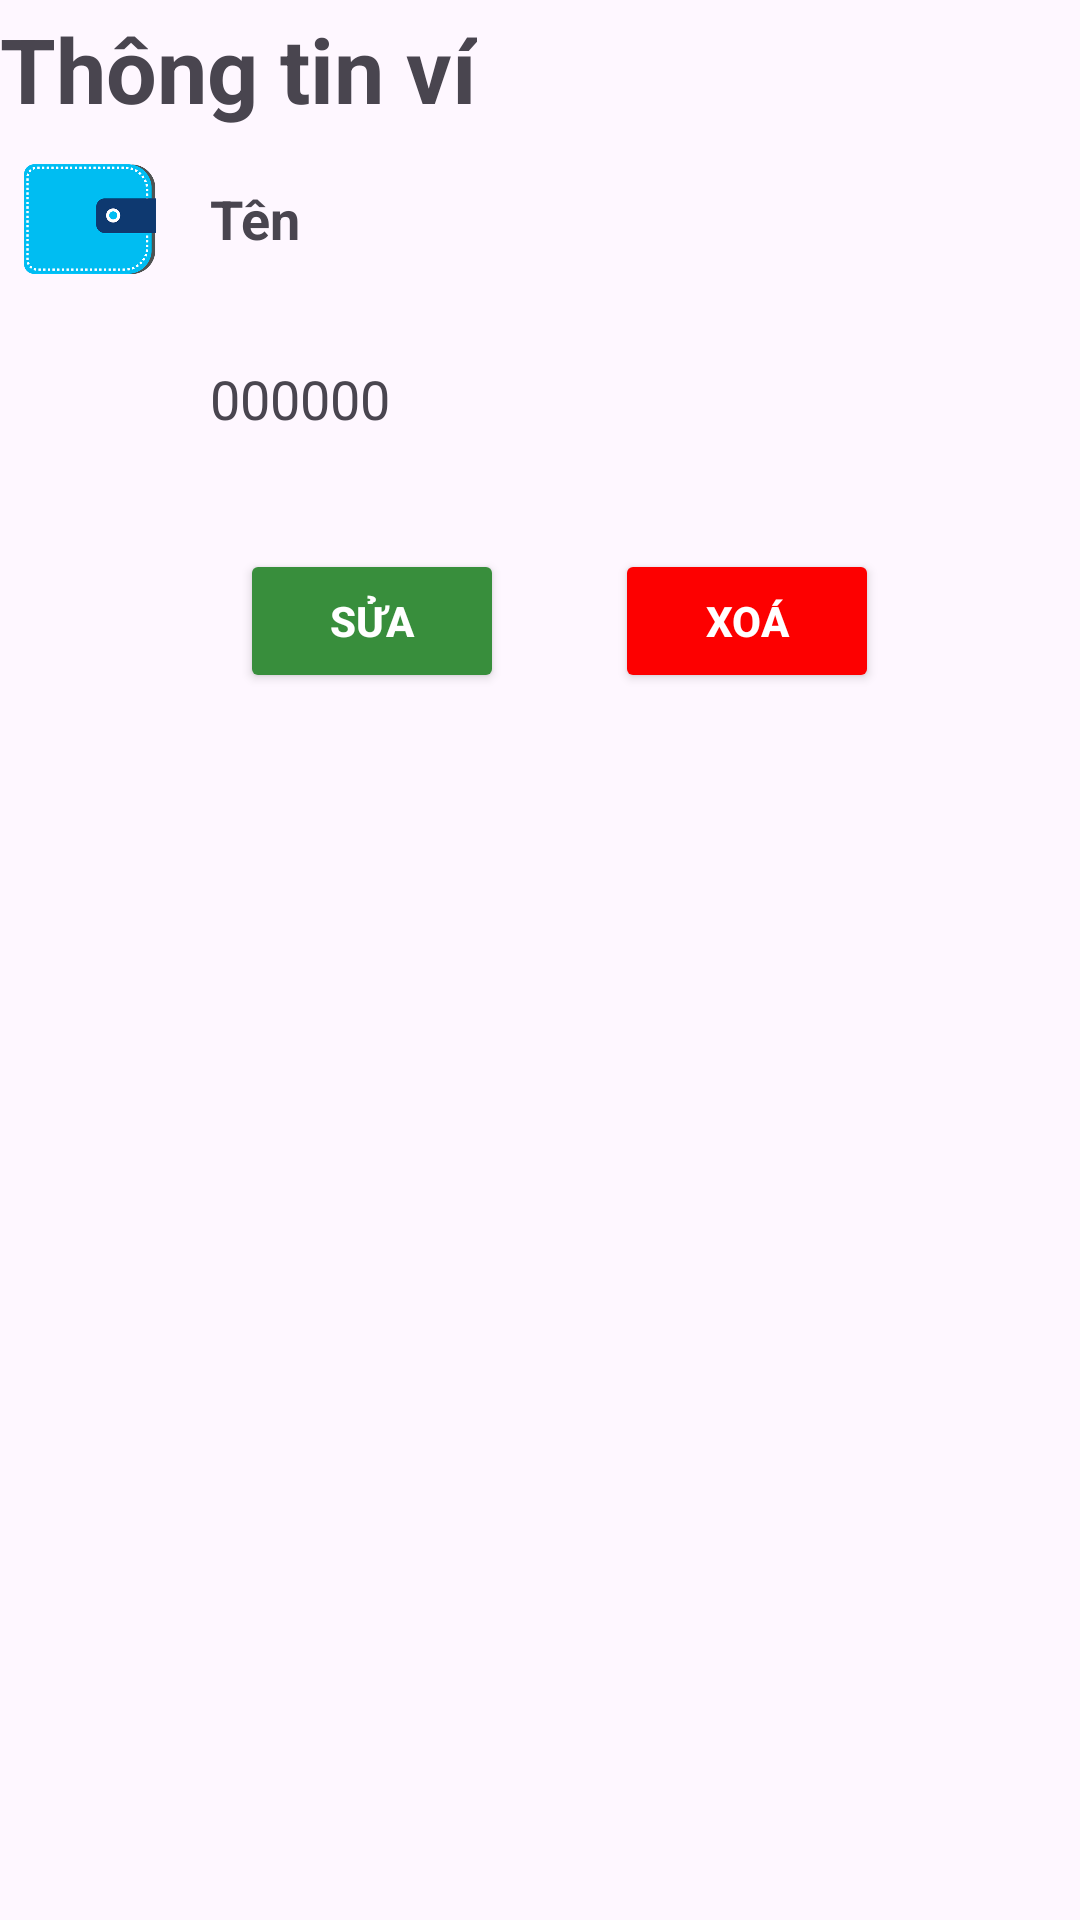

Icons on this 1080px x 1920px Android screen, each with the point to tap as (x,y):
wallet: (90,219)
